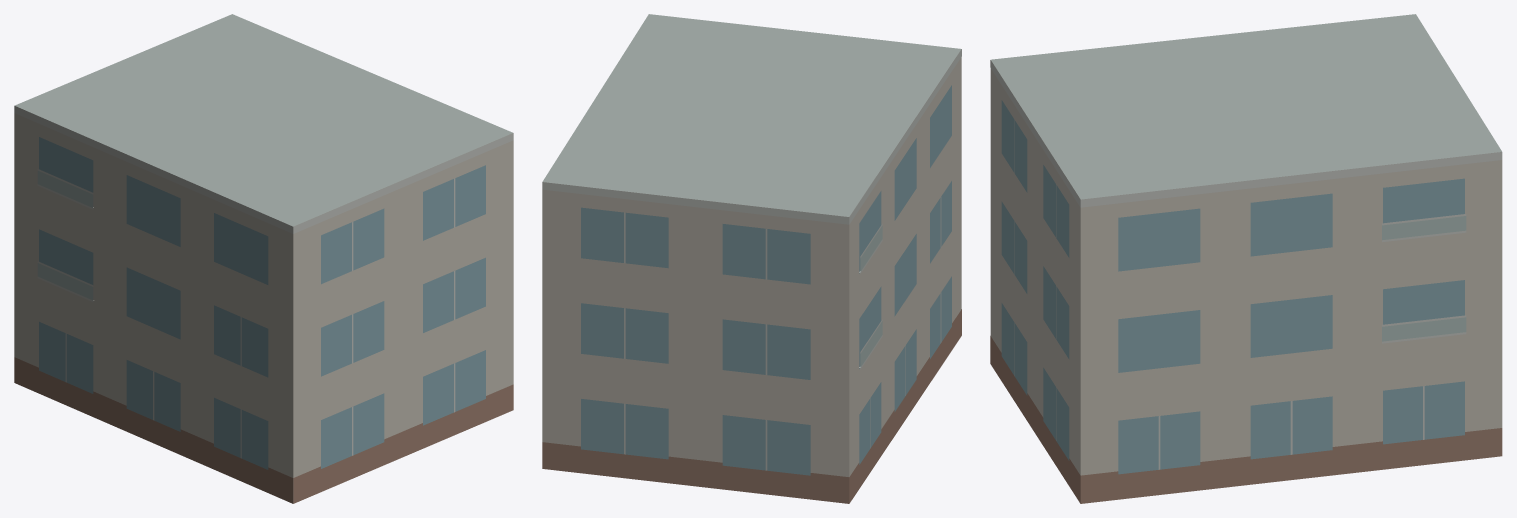
File: survey-upis-32715343.glb
3 views of the same model, side by side, from view 1: azimuth 30°, elevation 25°; view 2: azimuth 150°, elevation 25°; view 3: azimuth 270°, elevation 25° (orthographic). The views are drawn at different scales.
Visible parts, largest first — view 1: survey-upis-32715343.tmp; view 2: survey-upis-32715343.tmp; view 3: survey-upis-32715343.tmp.
Part boxes in pixels (left/top/right/bottom): survey-upis-32715343.tmp: left=14, top=14, right=513, bottom=503; survey-upis-32715343.tmp: left=542, top=14, right=961, bottom=503; survey-upis-32715343.tmp: left=990, top=14, right=1502, bottom=503.
Size of the model in its own units: 11.98 by 9.15 by 13.96.
